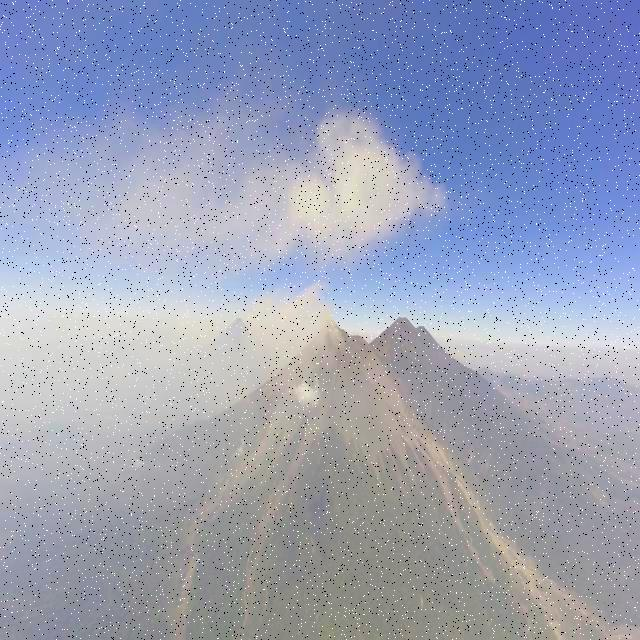Plume: (230, 99, 449, 285)
Summit: (318, 316, 342, 332)
